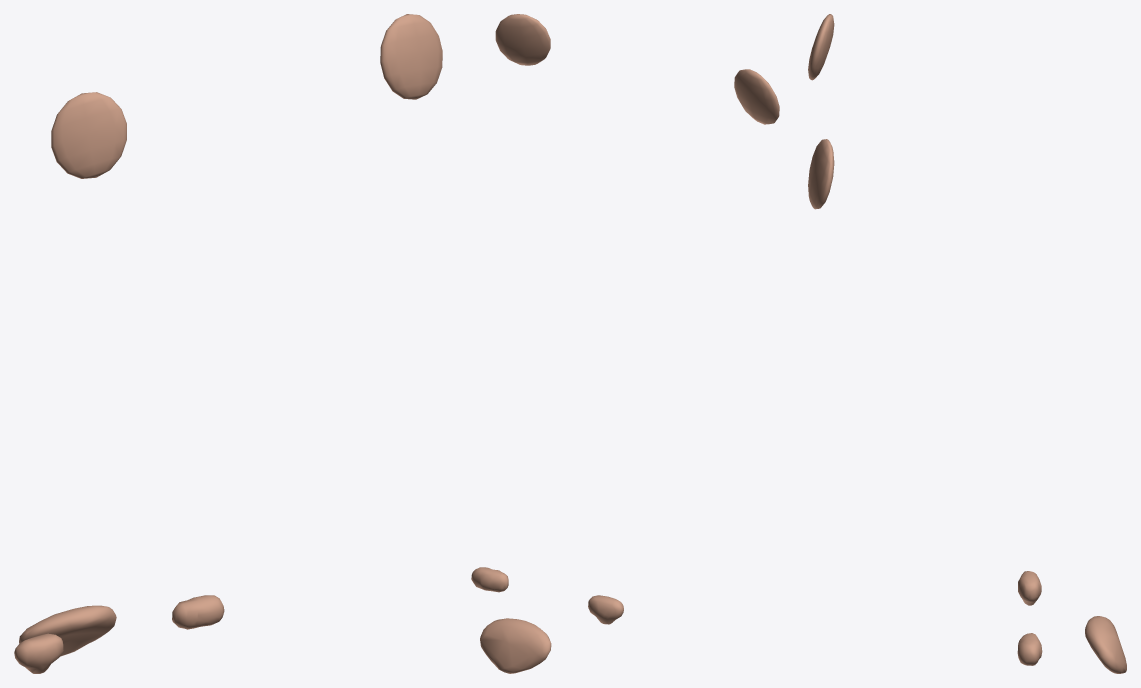
File: pediatric_infant_female.reproductive.LOD1.glb
The picture shows the model from 3 angles, left to right: view 1: azimuth 30°, elevation 25°; view 2: azimuth 150°, elevation 25°; view 3: azimuth 270°, elevation 25°; orthographic projection. The views are drawn at different scales.
Parts seen in each view (by area): view 1: PEDIATRIC.INFANT.FEMALE.REPRODUCTIVE.BREAST_ADIPOSE_TISSUE.R, PEDIATRIC.INFANT.FEMALE.REPRODUCTIVE.BREAST_ADIPOSE_TISSUE.L, PEDIATRIC.INFANT.FEMALE.REPRODUCTIVE.UTERUS, PEDIATRIC.INFANT.FEMALE.REPRODUCTIVE.OVARY.R, PEDIATRIC.INFANT.FEMALE.REPRODUCTIVE.OVARY.L; view 2: PEDIATRIC.INFANT.FEMALE.REPRODUCTIVE.UTERUS, PEDIATRIC.INFANT.FEMALE.REPRODUCTIVE.BREAST_ADIPOSE_TISSUE.L, PEDIATRIC.INFANT.FEMALE.REPRODUCTIVE.BREAST_ADIPOSE_TISSUE.R, PEDIATRIC.INFANT.FEMALE.REPRODUCTIVE.OVARY.R, PEDIATRIC.INFANT.FEMALE.REPRODUCTIVE.OVARY.L; view 3: PEDIATRIC.INFANT.FEMALE.REPRODUCTIVE.UTERUS, PEDIATRIC.INFANT.FEMALE.REPRODUCTIVE.BREAST_ADIPOSE_TISSUE.L, PEDIATRIC.INFANT.FEMALE.REPRODUCTIVE.BREAST_ADIPOSE_TISSUE.R, PEDIATRIC.INFANT.FEMALE.REPRODUCTIVE.OVARY.L, PEDIATRIC.INFANT.FEMALE.REPRODUCTIVE.OVARY.R.
Boxes of the visible parts, x1,y1,x2,y2 form: PEDIATRIC.INFANT.FEMALE.REPRODUCTIVE.BREAST_ADIPOSE_TISSUE.R: [51, 92, 126, 178]; PEDIATRIC.INFANT.FEMALE.REPRODUCTIVE.BREAST_ADIPOSE_TISSUE.L: [380, 14, 442, 99]; PEDIATRIC.INFANT.FEMALE.REPRODUCTIVE.UTERUS: [19, 605, 116, 656]; PEDIATRIC.INFANT.FEMALE.REPRODUCTIVE.OVARY.R: [14, 633, 63, 673]; PEDIATRIC.INFANT.FEMALE.REPRODUCTIVE.OVARY.L: [172, 595, 224, 629]; PEDIATRIC.INFANT.FEMALE.REPRODUCTIVE.UTERUS: [480, 618, 551, 673]; PEDIATRIC.INFANT.FEMALE.REPRODUCTIVE.BREAST_ADIPOSE_TISSUE.L: [495, 14, 550, 65]; PEDIATRIC.INFANT.FEMALE.REPRODUCTIVE.BREAST_ADIPOSE_TISSUE.R: [734, 69, 779, 124]; PEDIATRIC.INFANT.FEMALE.REPRODUCTIVE.OVARY.R: [588, 595, 623, 624]; PEDIATRIC.INFANT.FEMALE.REPRODUCTIVE.OVARY.L: [471, 567, 508, 592]; PEDIATRIC.INFANT.FEMALE.REPRODUCTIVE.UTERUS: [1085, 616, 1126, 673]; PEDIATRIC.INFANT.FEMALE.REPRODUCTIVE.BREAST_ADIPOSE_TISSUE.L: [808, 139, 834, 209]; PEDIATRIC.INFANT.FEMALE.REPRODUCTIVE.BREAST_ADIPOSE_TISSUE.R: [808, 14, 834, 80]; PEDIATRIC.INFANT.FEMALE.REPRODUCTIVE.OVARY.L: [1017, 633, 1042, 665]; PEDIATRIC.INFANT.FEMALE.REPRODUCTIVE.OVARY.R: [1018, 571, 1041, 605].
Bounding box in the file's own units: 0.1074 × 0.1929 × 0.094.
